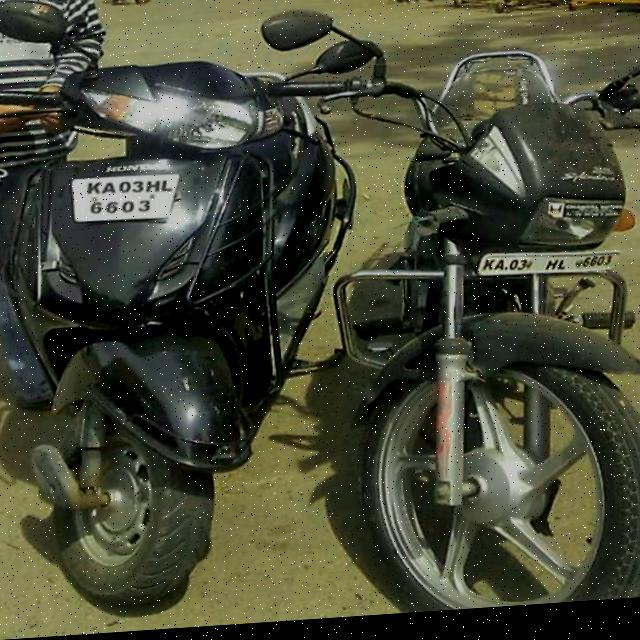plate: (472, 249, 620, 293), (68, 171, 180, 228)
